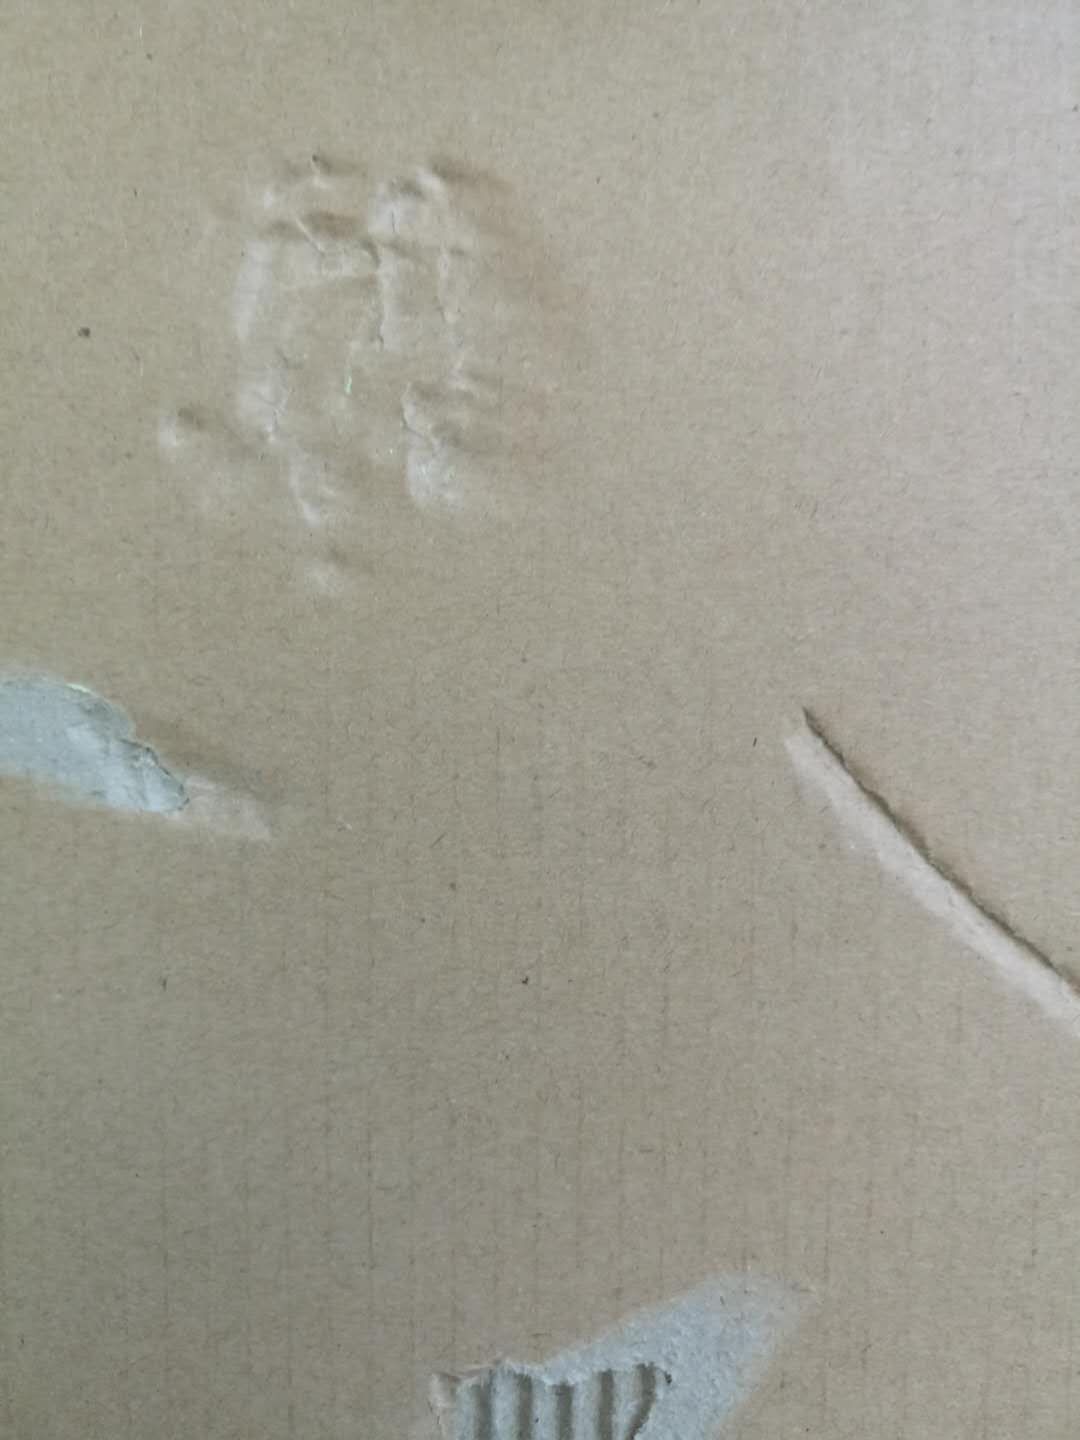defect: (140, 119, 632, 655), (760, 681, 1080, 1058), (402, 1240, 847, 1438), (2, 635, 365, 869)
